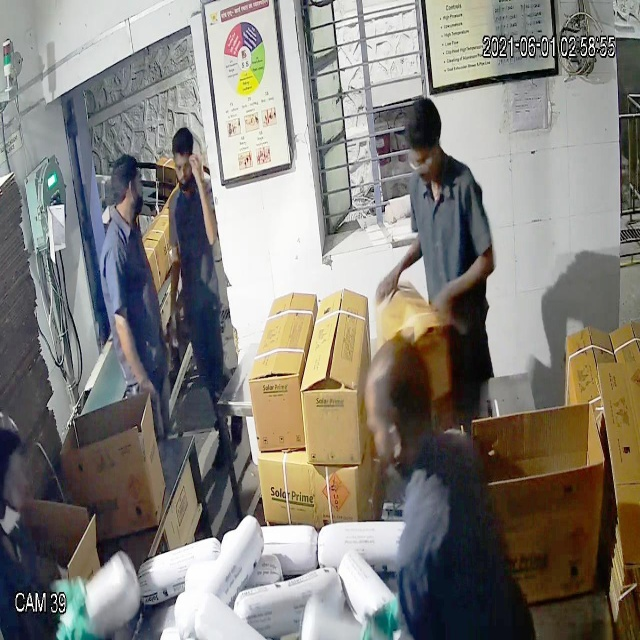Gafas: (398, 137, 442, 178)
